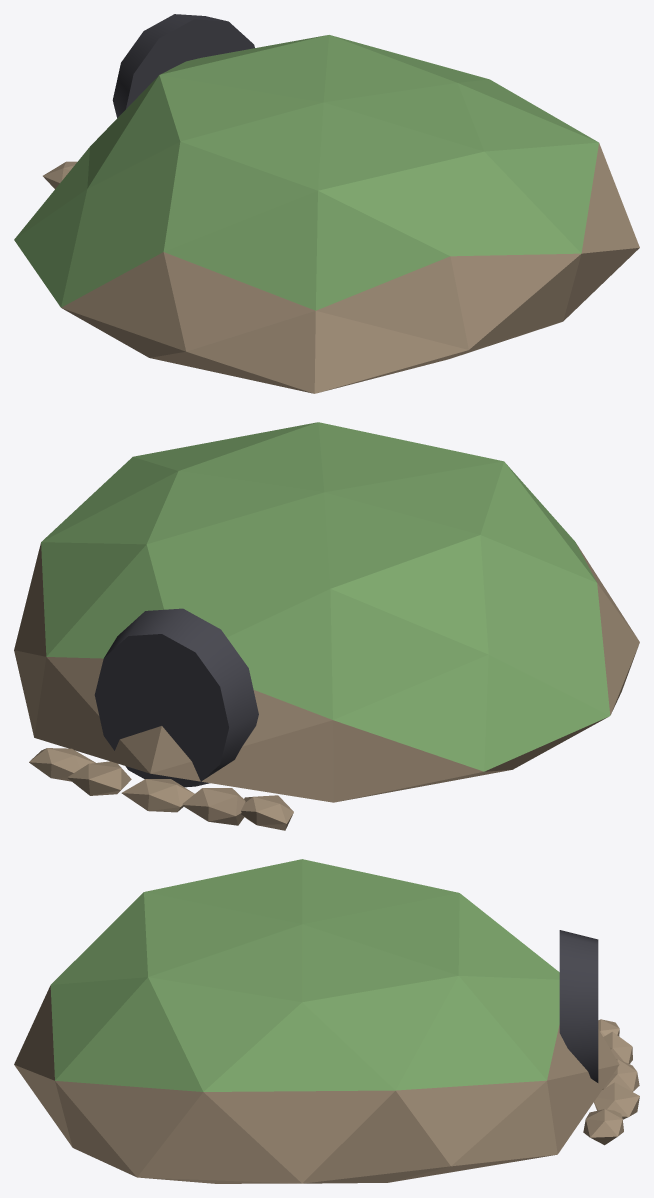
The model's file is burrow.glb.
3 views of the same model, one above another, from view 1: azimuth 30°, elevation 25°; view 2: azimuth 150°, elevation 25°; view 3: azimuth 270°, elevation 25° (orthographic). The views are drawn at different scales.
Parts seen in each view (by area): view 1: burrow; view 2: burrow; view 3: burrow.
Part boxes in pixels (x1,y1,x2,y2): burrow: [14, 14, 639, 393]; burrow: [14, 422, 639, 830]; burrow: [14, 859, 639, 1183].
Bounding box in the file's own units: 4.53 × 1.47 × 4.86.
